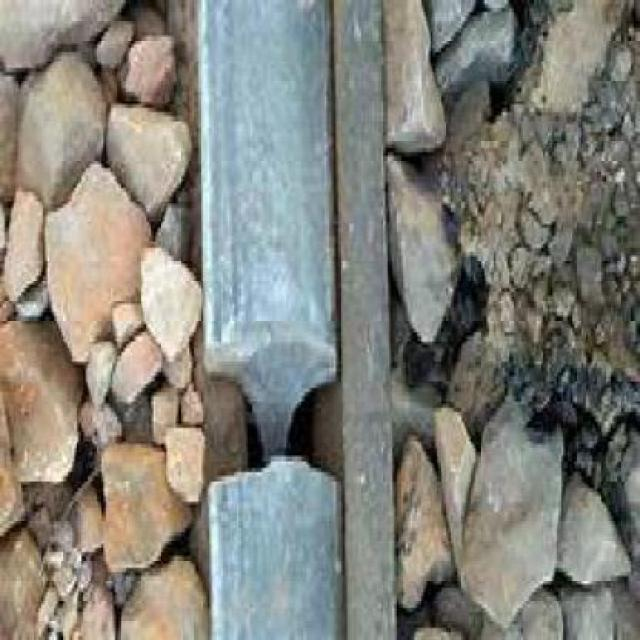defective: (155, 137, 400, 640)
